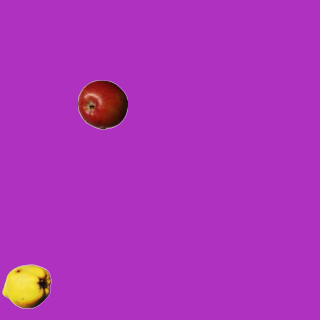Apple Braeburn: (77, 79, 127, 129)
Quince: (1, 261, 51, 311)
